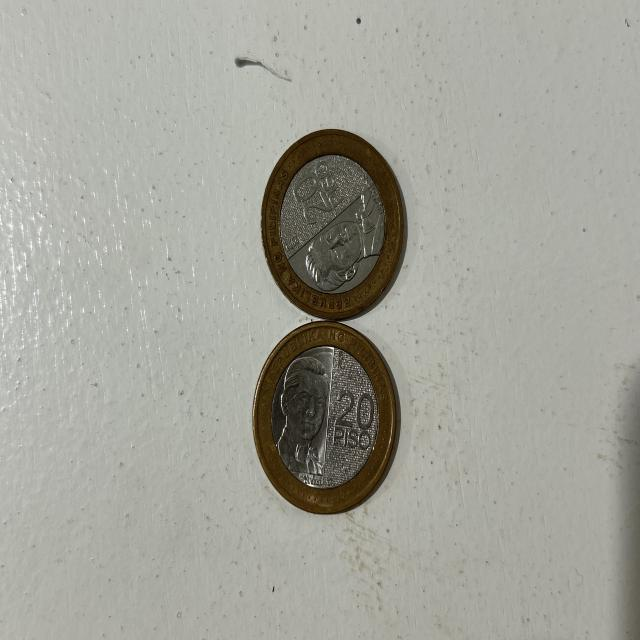20_New_Front: (294, 175, 331, 223), (336, 391, 377, 428)
